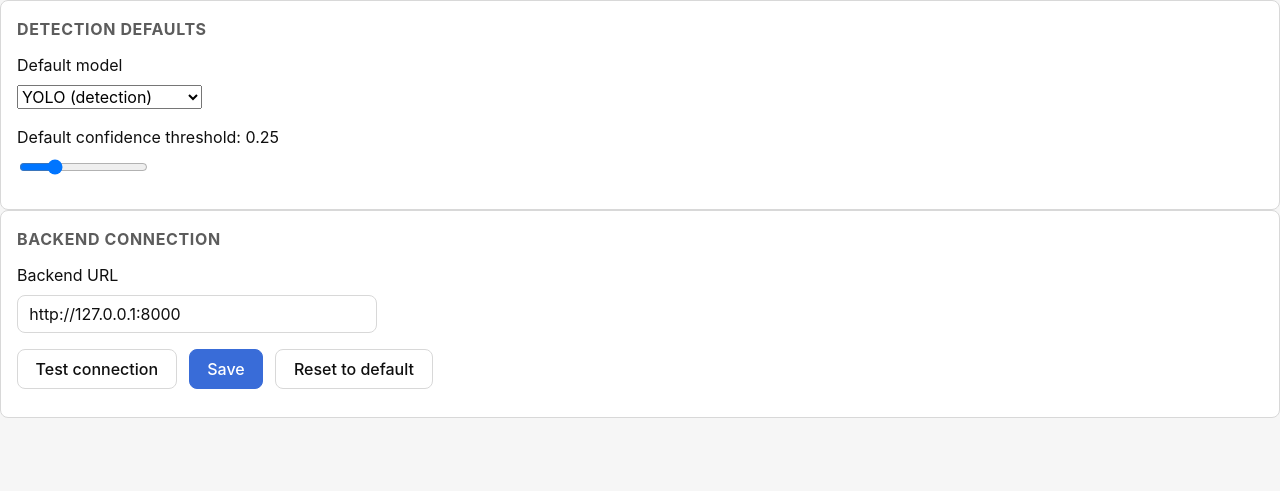
Test: SettingsPage › Test connection reports failure when the backend is unreachable
Click the button "Test connection".
click(97, 369)  # box [17,349,177,389]
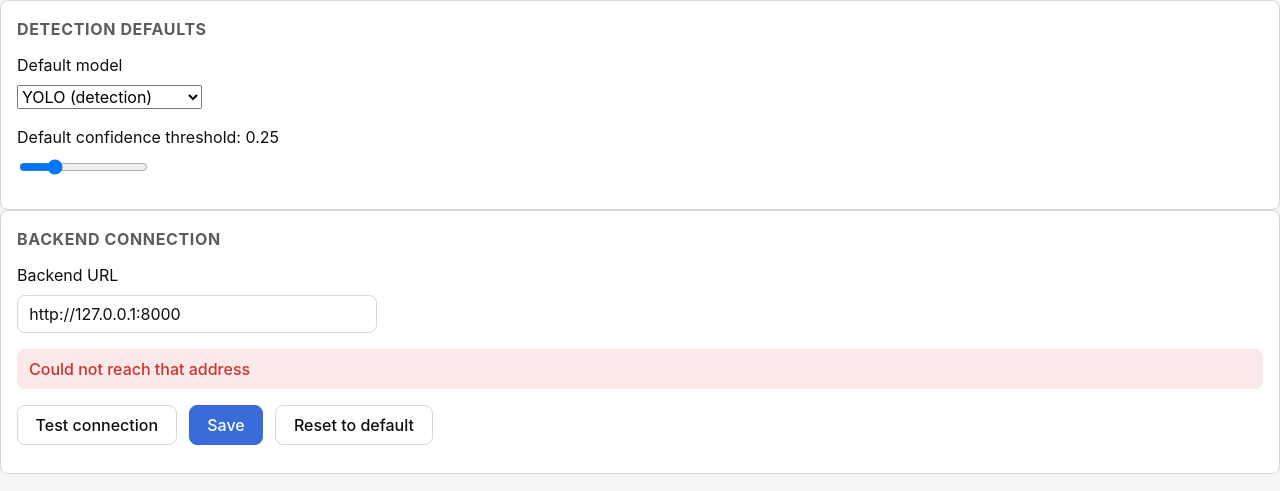
Expected: the text "Could not reach that address" is shown, [17,349,1263,389]
